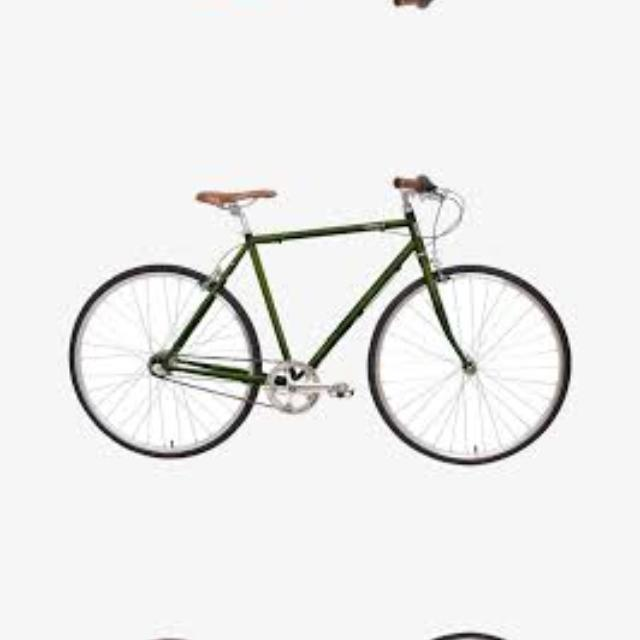obstacle: (50, 167, 588, 475), (50, 621, 588, 640), (50, 0, 588, 15)
